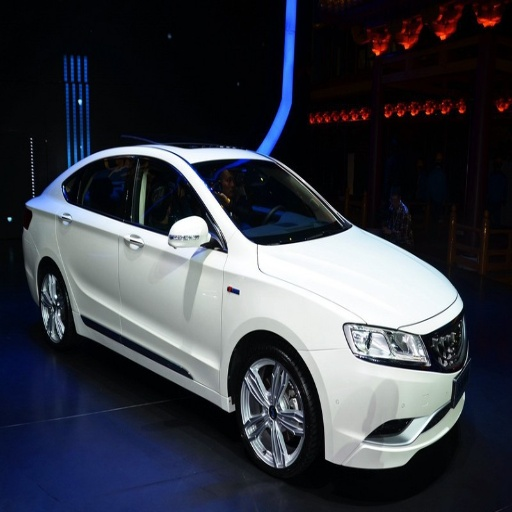front_bumper: (309, 312, 470, 466)
front_right_door: (120, 155, 225, 392)
front_right_light: (343, 321, 435, 369)
